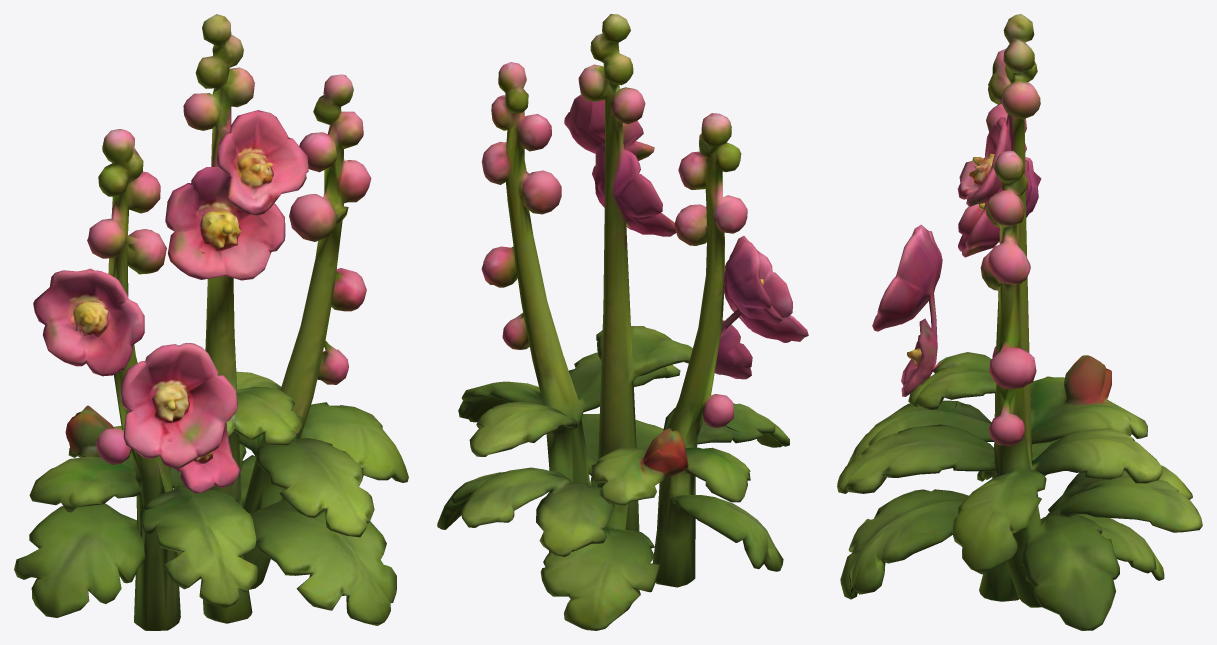
The model's file is hollyhocks.glb.
3 renders of one model, left to right at view 1: azimuth 30°, elevation 25°; view 2: azimuth 150°, elevation 25°; view 3: azimuth 270°, elevation 25°, orthographic. The views are drawn at different scales.
Parts seen in each view (by area): view 1: hollyhocks; view 2: hollyhocks; view 3: hollyhocks.
Boxes of the visible parts, x1=… form: hollyhocks: x1=14, y1=14, x2=408, y2=630; hollyhocks: x1=437, y1=14, x2=808, y2=630; hollyhocks: x1=837, y1=14, x2=1202, y2=630.
Bounding box in the file's own units: 1.11 × 1.8 × 1.03.
1 material, 1 textured.
